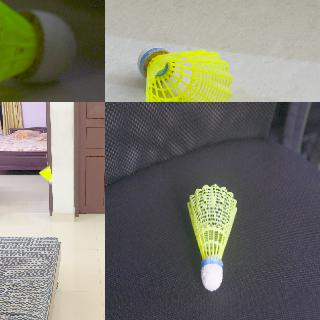shuttlecock: (0, 0, 73, 101), (186, 184, 236, 292), (137, 46, 232, 101), (39, 165, 53, 183)
